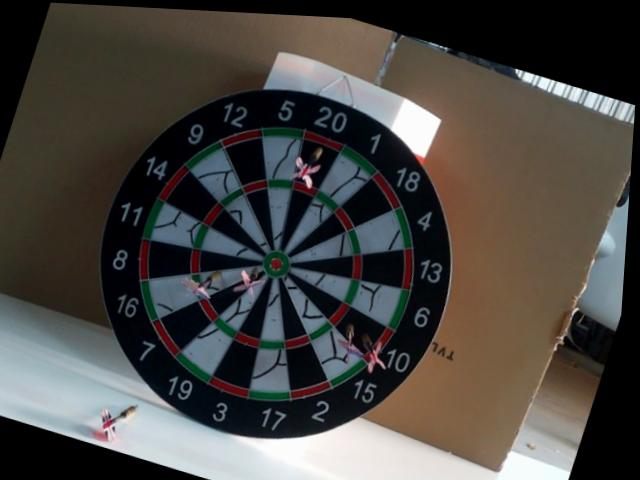miss: (85, 384, 151, 454)
